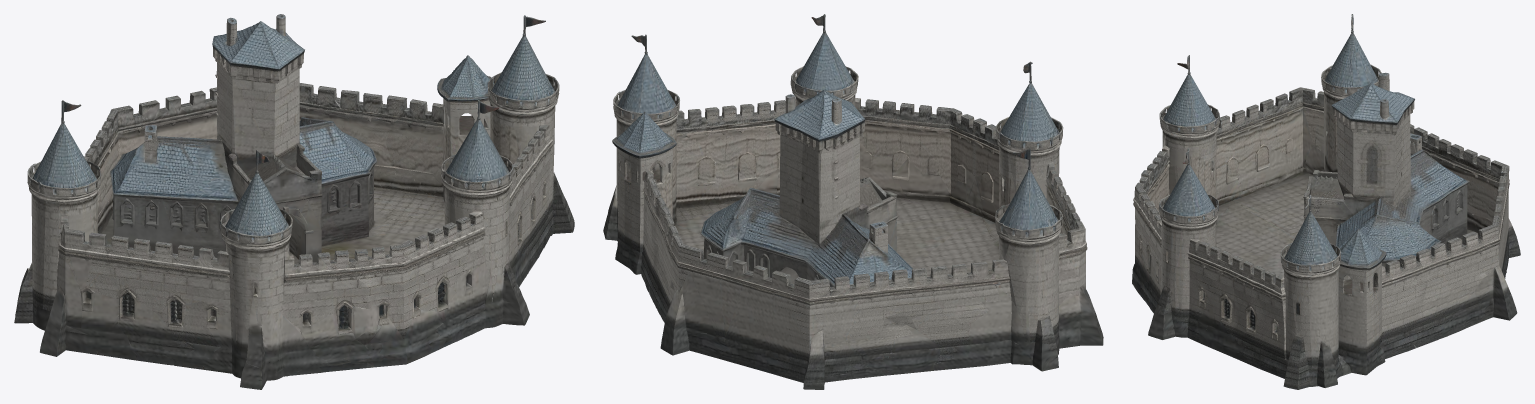
The model's file is castle.glb.
The picture shows the model from 3 angles, left to right: view 1: azimuth 30°, elevation 25°; view 2: azimuth 150°, elevation 25°; view 3: azimuth 270°, elevation 25°; orthographic projection. The views are drawn at different scales.
Bounding box in the file's own units: 1 × 0.4332 × 0.7595.
1 material, 1 textured.
